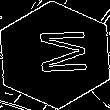M_W: (25, 30, 85, 80)
